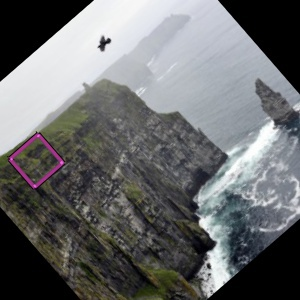square: (7, 131, 67, 191)
